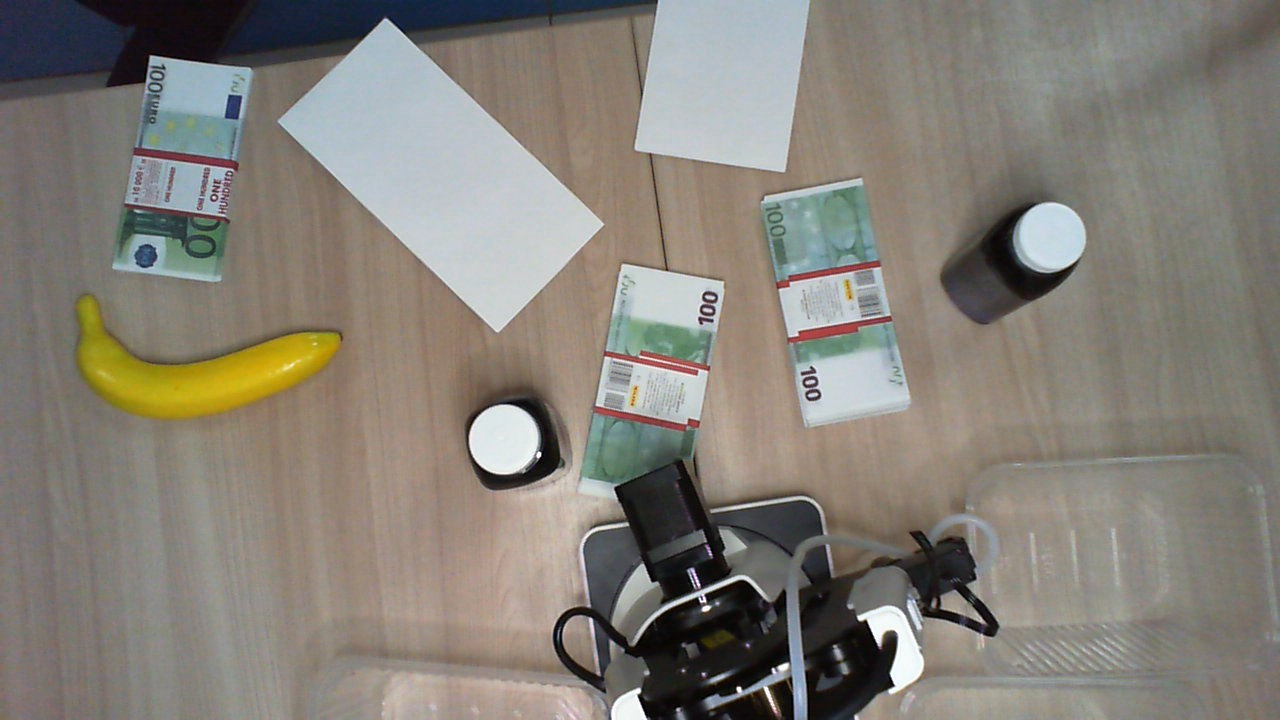banana: (66, 290, 345, 422)
bottle: (994, 195, 1090, 302), (463, 395, 556, 494)
convert: (273, 18, 608, 332), (631, 2, 813, 173)
money: (573, 259, 725, 508), (763, 175, 908, 427), (109, 51, 253, 284)
